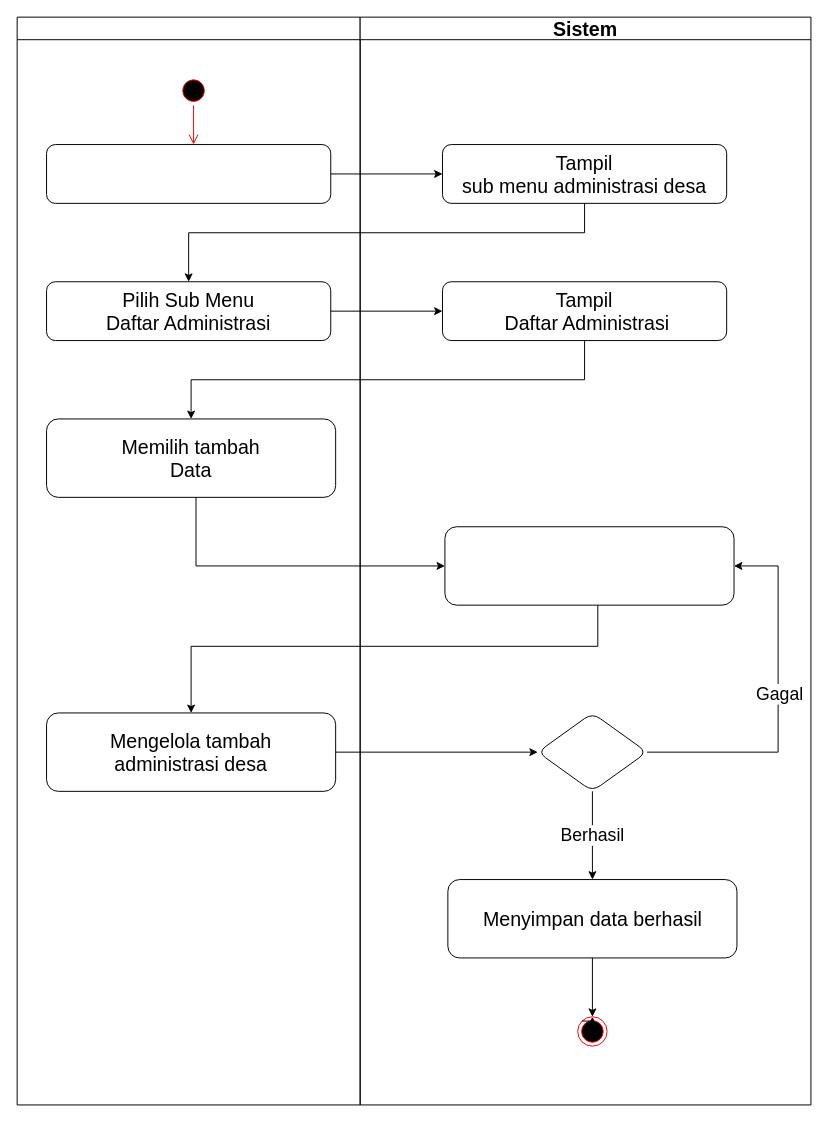
The diagram is 828 pixels wide and 1122 high, and some of its shapes have lost their labels. The box of each missing label's shape, as (x1, y1, x2, y2) in pixels:
Lurah: (16, 16, 360, 1105)
Menampilkan form tambah: (444, 526, 734, 605)
Pilih Menu administrasi desa: (46, 144, 331, 203)
Validasi: (537, 712, 647, 791)
